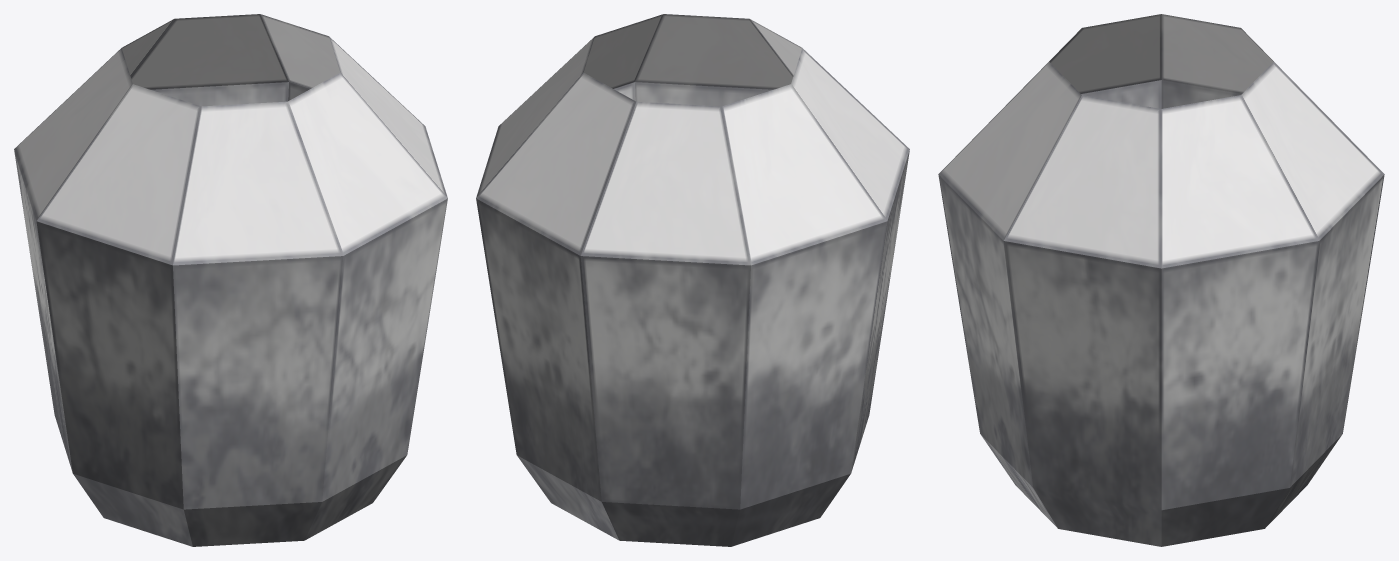
The model's file is nozzle_05.fbx.
The picture shows the model from 3 angles, left to right: view 1: azimuth 30°, elevation 25°; view 2: azimuth 150°, elevation 25°; view 3: azimuth 270°, elevation 25°; orthographic projection.
Visible parts, largest first — view 1: nozzle_05; view 2: nozzle_05; view 3: nozzle_05.
Boxes of the visible parts, <box> form: nozzle_05: <box>14,14,447,546</box>; nozzle_05: <box>476,14,909,546</box>; nozzle_05: <box>938,14,1384,546</box>.
Size of the model in its own units: 5.01 by 5.25 by 5.01.
